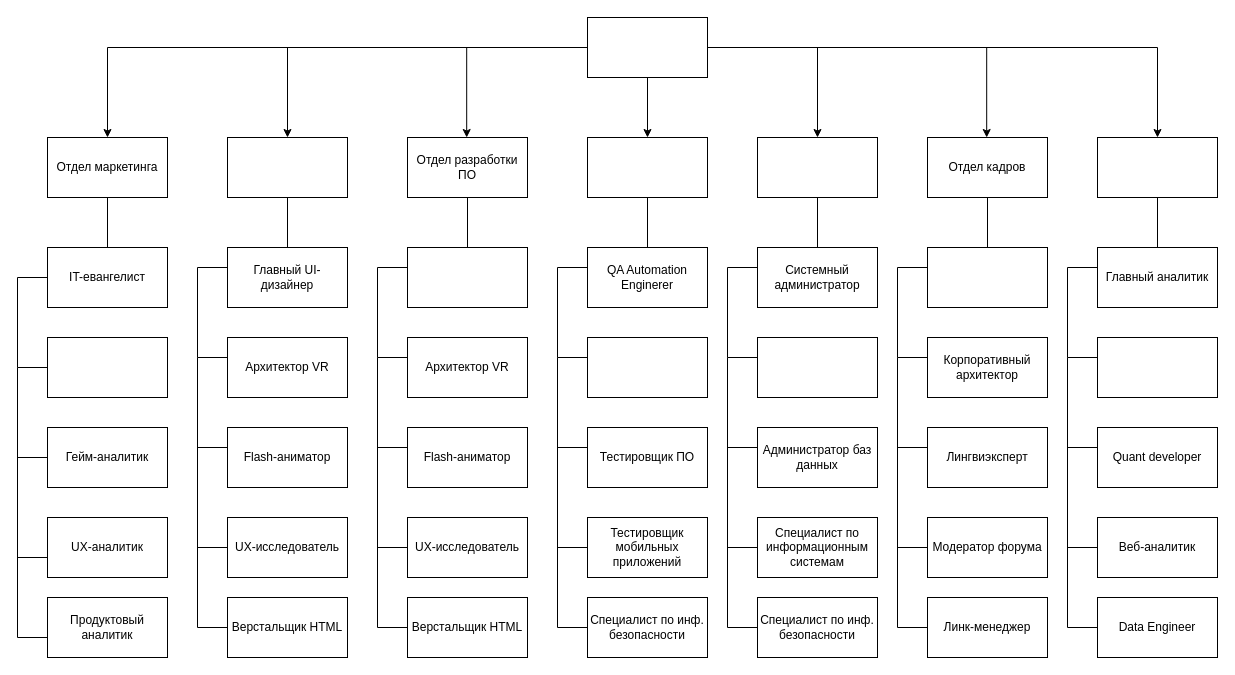
Image size: 1235x675. Some labels were removed from this diagram. The box of each missing label's shape, as (x1, y1, x2, y2) in pixels:
IT-рекрутер: (926, 246, 1048, 308)
QA-инженер: (586, 336, 708, 398)
SEO-специалист: (46, 336, 168, 398)
Бизнес аналитик: (1096, 336, 1218, 398)
Генеральный директор: (586, 16, 708, 78)
Начальник отдела разработки ПО: (406, 246, 528, 308)
Отдел дизайна: (226, 136, 348, 198)
Отдел тестирования: (586, 136, 708, 198)
Отдел техподдержки: (756, 136, 878, 198)
Отдел финансов: (1096, 136, 1218, 198)
Сетевой администратор: (756, 336, 878, 398)
